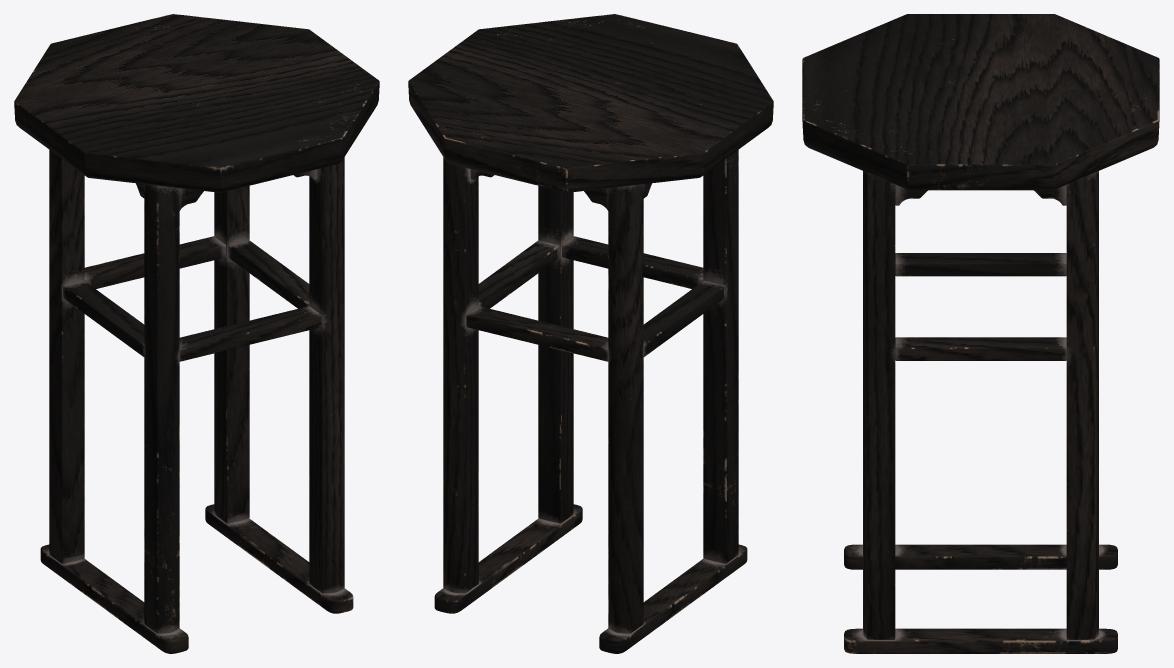
File: SM_Stool254.fbx
The picture shows the model from 3 angles, left to right: view 1: azimuth 30°, elevation 25°; view 2: azimuth 150°, elevation 25°; view 3: azimuth 270°, elevation 25°; orthographic projection. The views are drawn at different scales.
Visible parts, largest first — view 1: SM_Stool254; view 2: SM_Stool254; view 3: SM_Stool254.
Part boxes in pixels (bbox=[...]): SM_Stool254: bbox=[14, 14, 379, 653]; SM_Stool254: bbox=[408, 14, 773, 653]; SM_Stool254: bbox=[802, 14, 1159, 653].
Bounding box in the file's own units: 41.28 × 66 × 41.28.
1 material, 1 textured.
